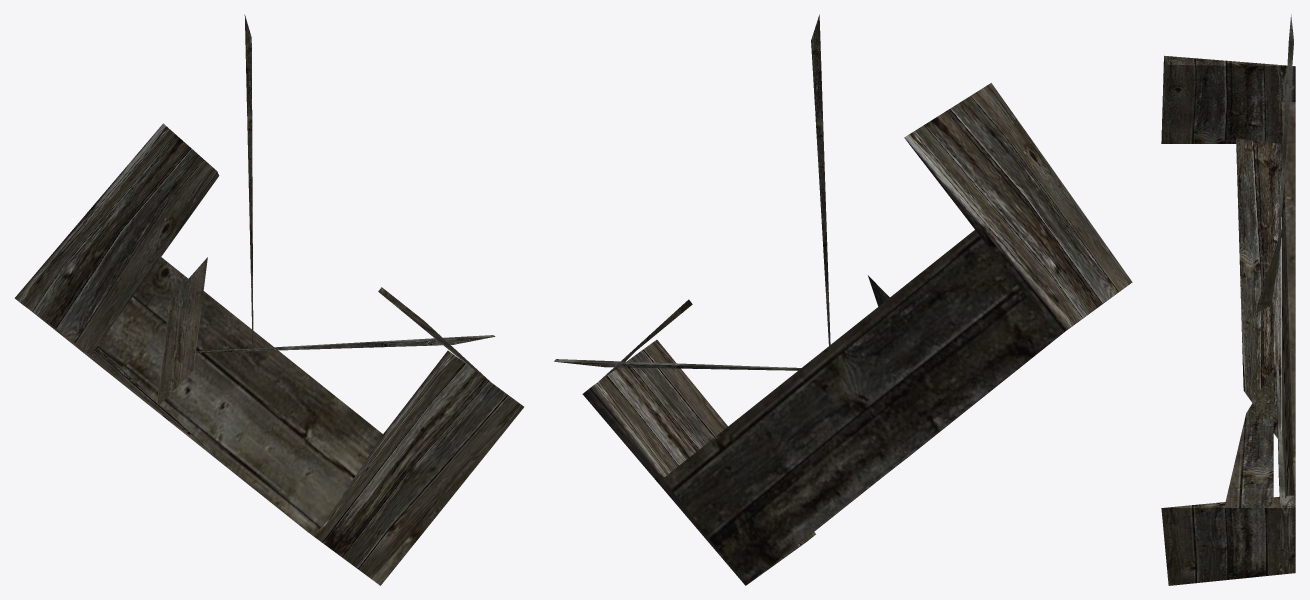
File: prop_destroyedcratebox.glb
3 views of the same model, side by side, from view 1: azimuth 30°, elevation 25°; view 2: azimuth 150°, elevation 25°; view 3: azimuth 270°, elevation 25° (orthographic). The views are drawn at different scales.
Bounding box in the file's own units: 33.91 × 37.25 × 8.44.
Materials: 1 (1 with a texture image).
